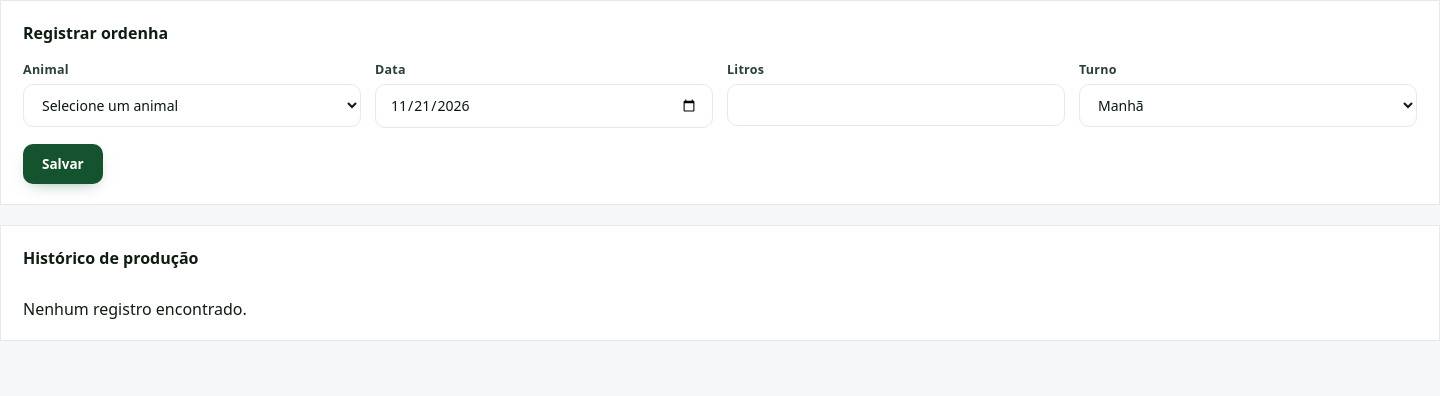
Test case: carrega animais reais e envia a ordenha à API
The image size is (1440, 396).
Step 1. Select "Mimosa · 0412" in the dropdown labelled "Animal" → (192, 106), box [23,84,361,127]
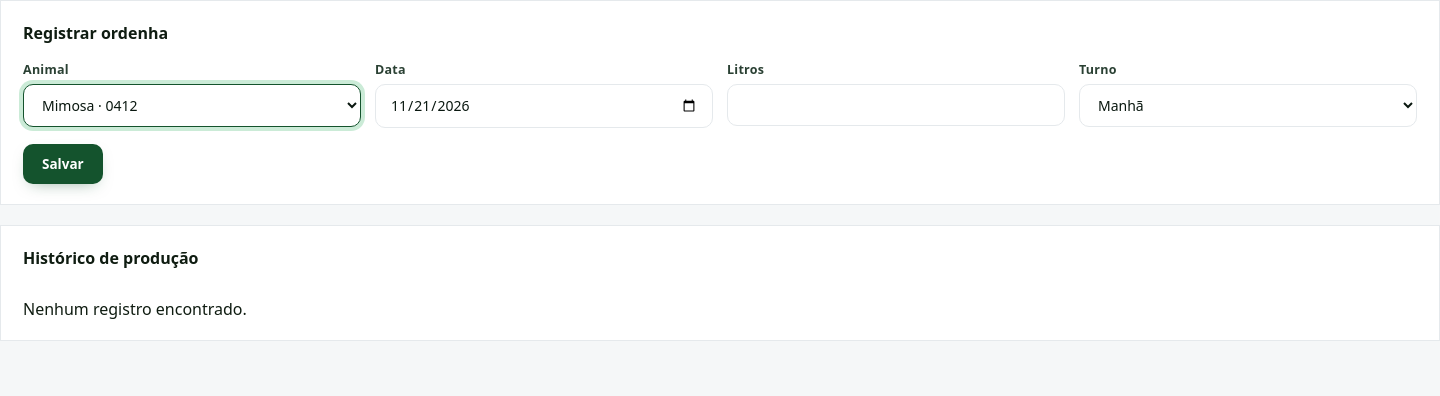
Step 2. Type "5" into the number field labelled "Litros" → (896, 105), box [727,84,1065,126]
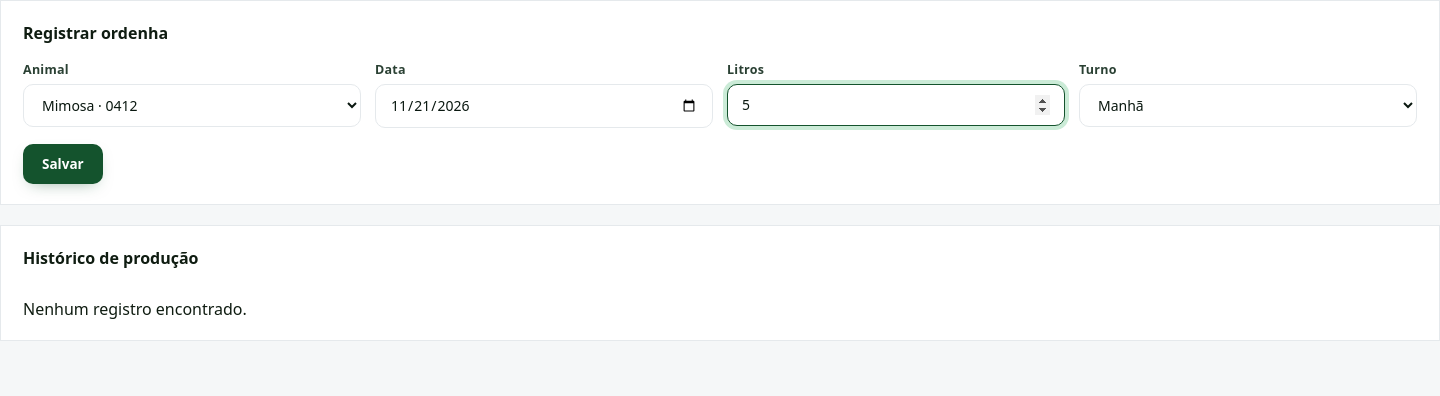
Step 3. Select "Tarde" in the dropdown labelled "Turno" → (1248, 106), box [1079,84,1417,127]
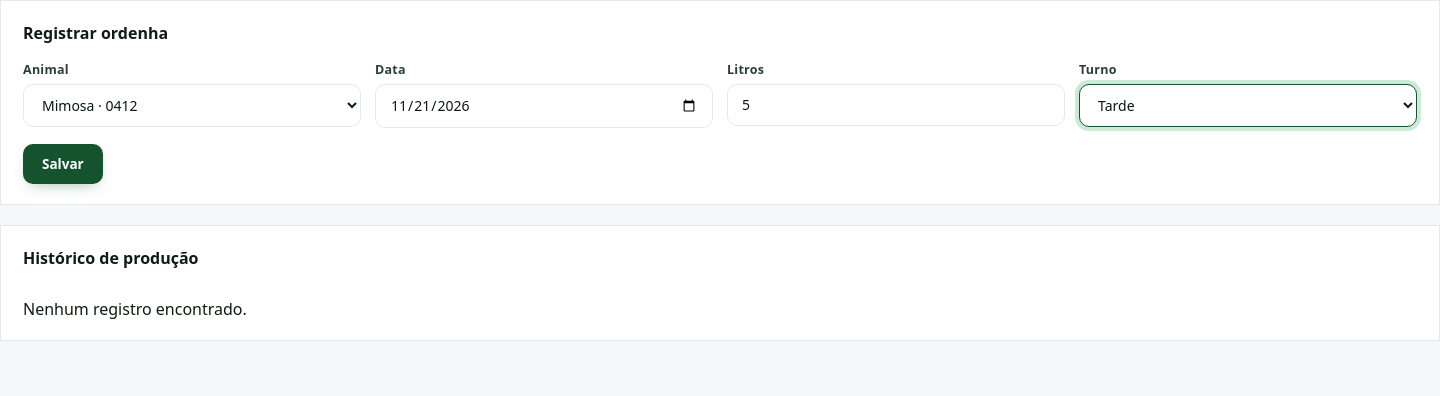
Step 4. Click the button "Salvar" → (63, 164), box [23,144,103,184]
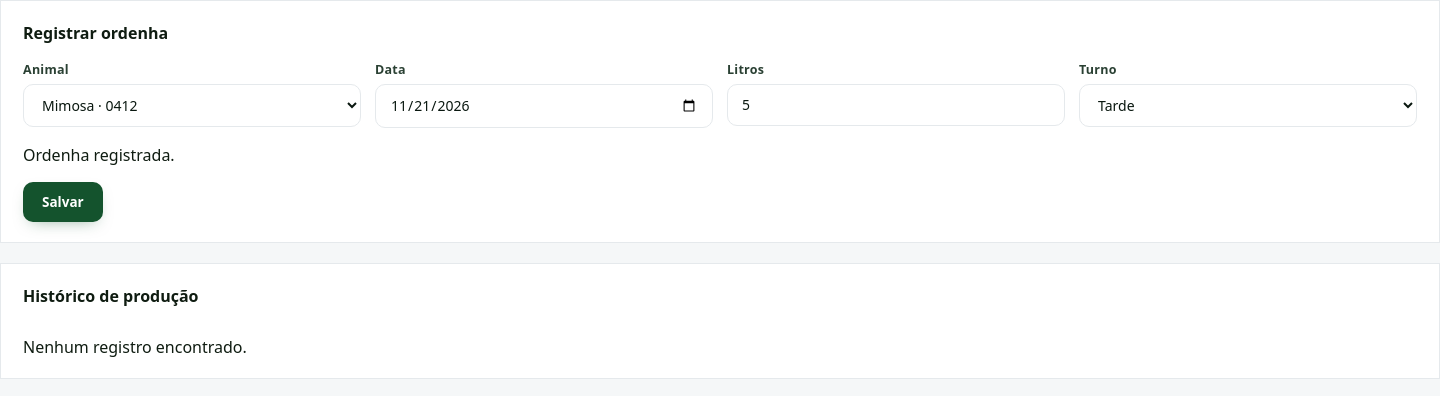
Expected: the message shows "Ordenha registrada", [23,144,175,166]
